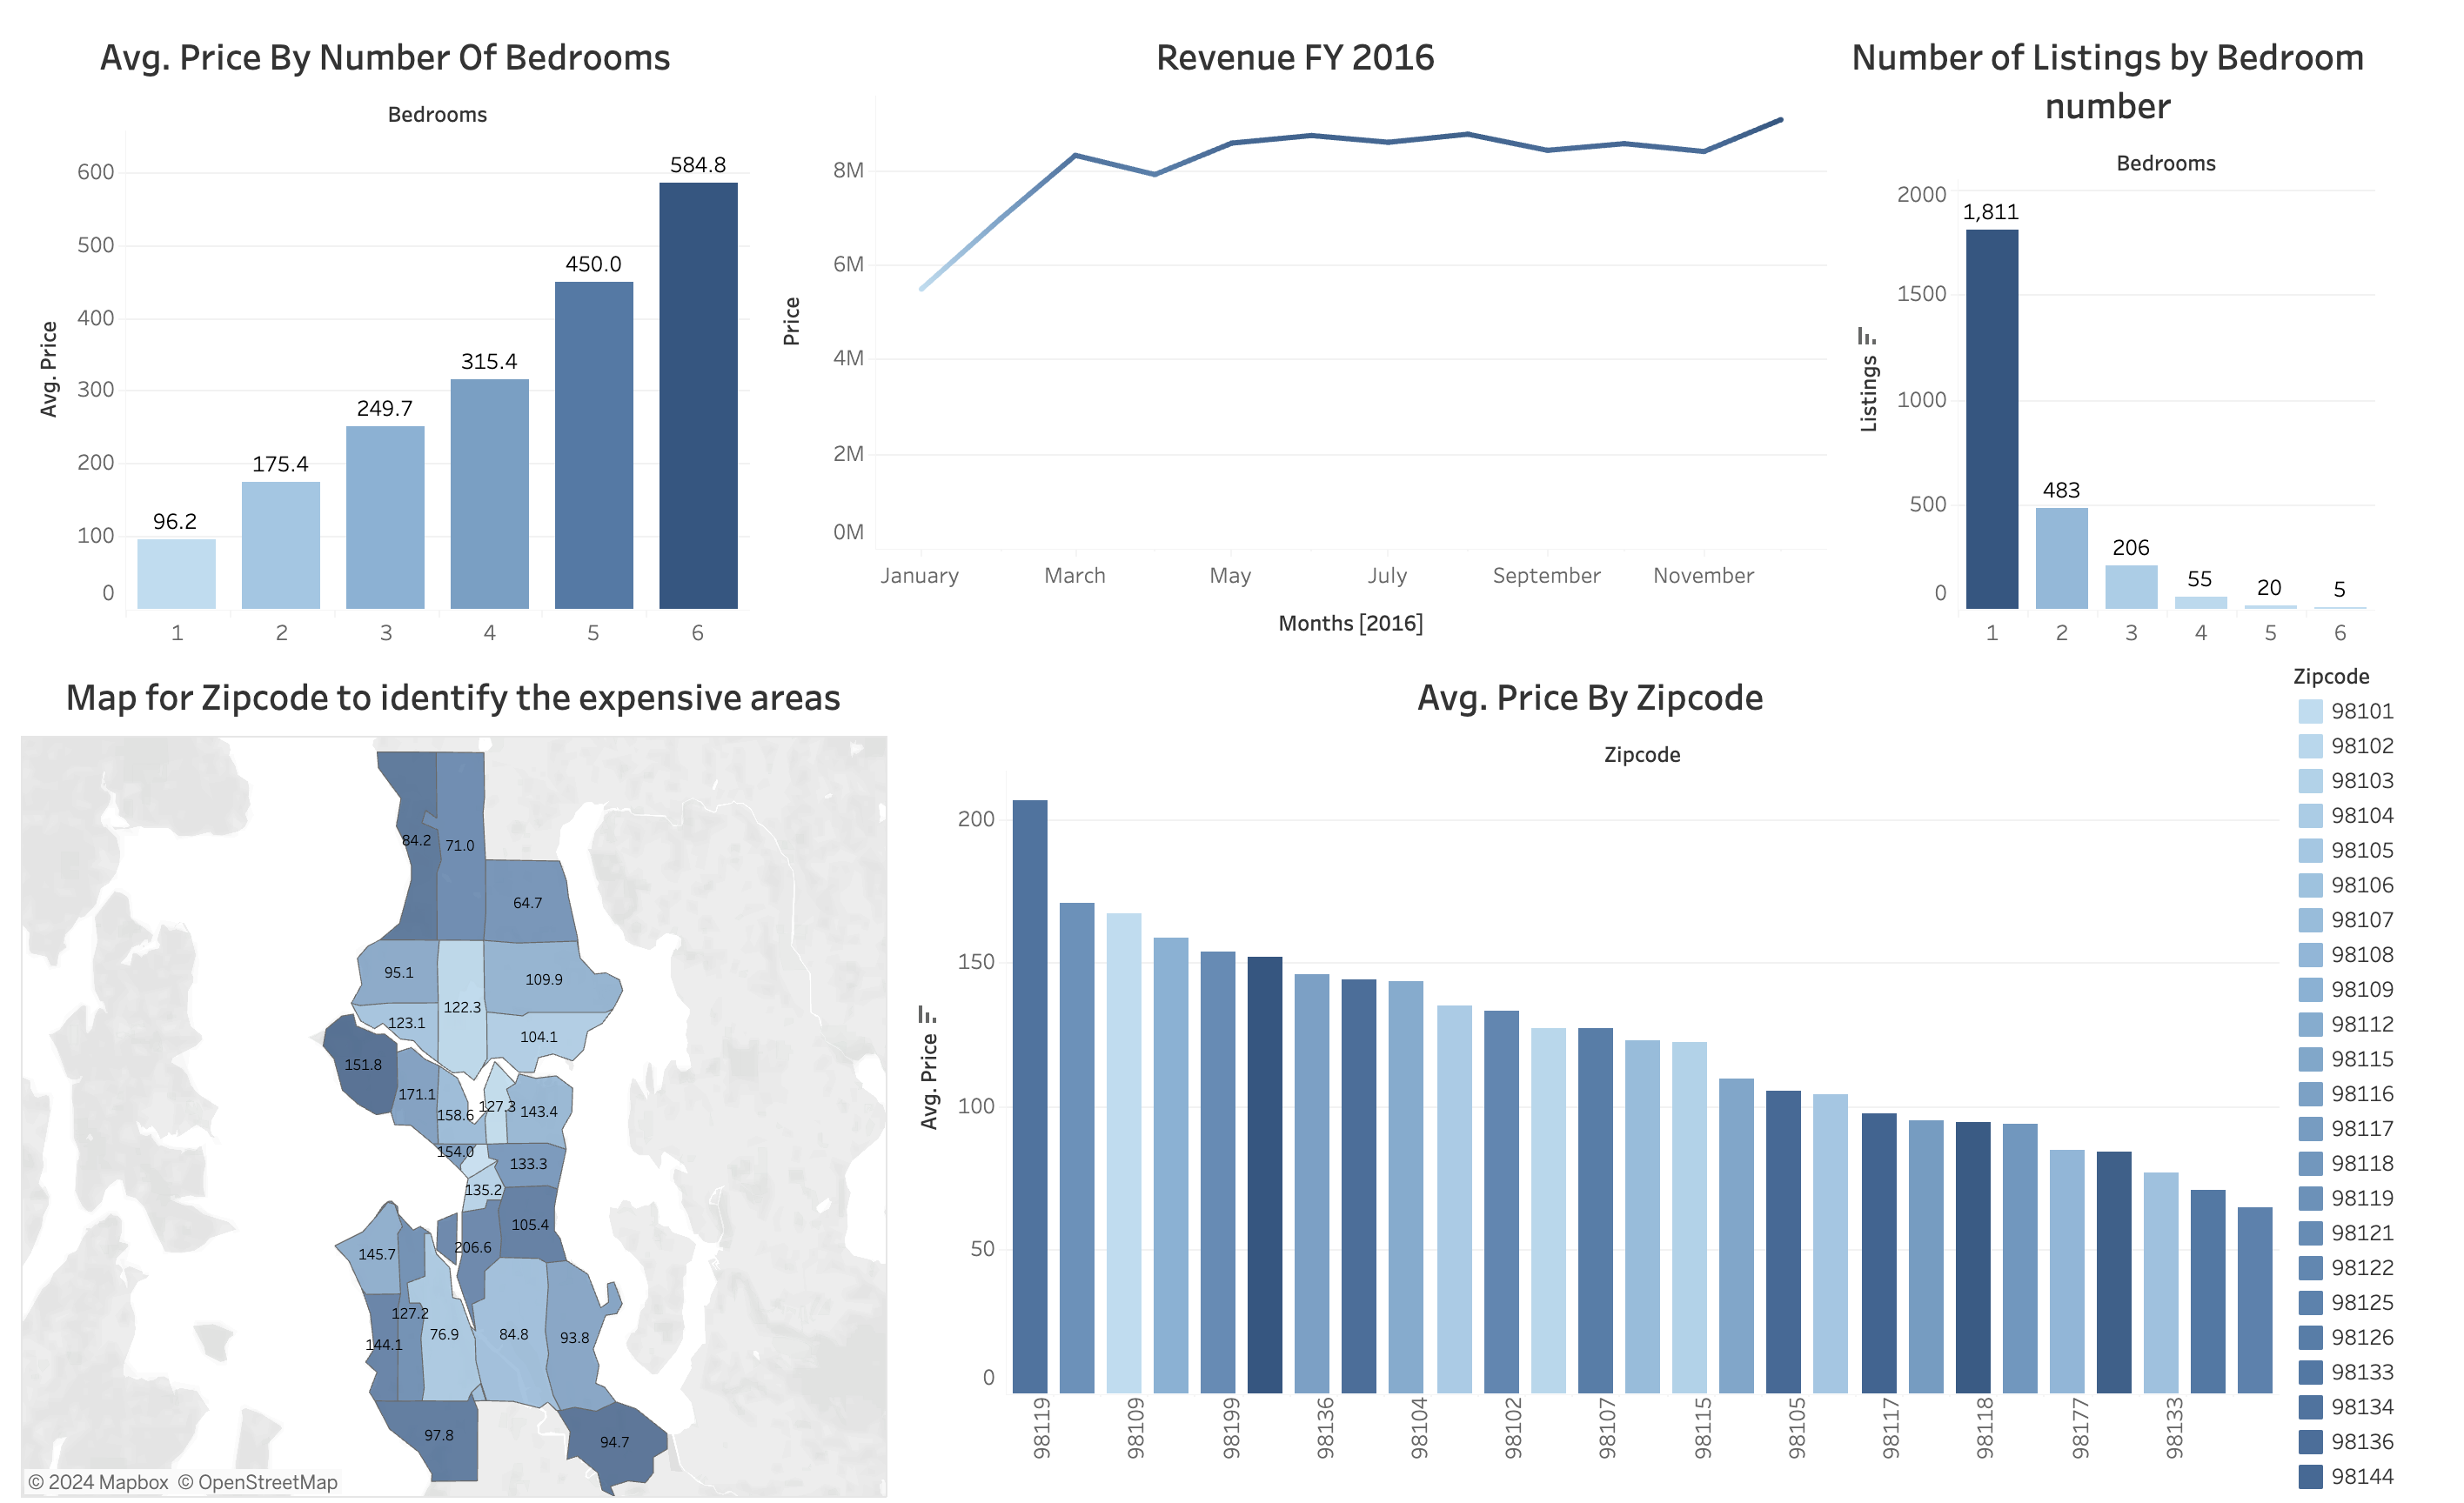

This screenshot's page, from the dashboard's own definition file:
{"tool":"tableau","page":{"name":"Airbnb_Data_Dashboard","canvas":[1000,1000],"units":"permille","ordinal":0},"visuals":[{"type":"worksheet","title":"NumberOfBedrooms","mark":"Automatic","rows":["price"],"cols":["bedrooms"],"box":[10.1,16.5,294,415.6]},{"type":"worksheet","title":"Revenue","mark":"Automatic","rows":["price (Calendar)"],"cols":["date"],"box":[304.1,16.5,425.7,415.6]},{"type":"worksheet","title":"NumberOfListingPerBedrooms","mark":"Automatic","rows":["id"],"cols":["bedrooms"],"box":[729.9,16.5,260,415.6]},{"type":"worksheet","title":"MapGraph","mark":"Multipolygon","box":[10.1,432.1,641.3,551.5]},{"type":"worksheet","title":"PriceByZipcode","mark":"Automatic","rows":["price"],"cols":["zipcode"],"box":[651.5,432.1,188.8,551.5]},{"type":"legend","title":"PriceByZipcode","param":"[federated.0ancflp1exaivk1f2c6l80n3nl8q].[none:zipcode:ok]","box":[840.3,432.1,149.6,551.5]}]}

Visuals, with their boxes on the dashboard's canvas, which has no fixed pixel size, in thousandths of its width and height (x1, y1, x2, y2). These are canvas units, not pixel positions in the 2464x1503 screenshot, which may show the page scaled, cropped or inside an application window:
"NumberOfBedrooms" worksheet: <bbox>10, 16, 304, 432</bbox>
"Revenue" worksheet: <bbox>304, 16, 730, 432</bbox>
"NumberOfListingPerBedrooms" worksheet: <bbox>730, 16, 990, 432</bbox>
"MapGraph" worksheet (Multipolygon marks): <bbox>10, 432, 651, 984</bbox>
"PriceByZipcode" worksheet: <bbox>652, 432, 840, 984</bbox>
"PriceByZipcode" legend: <bbox>840, 432, 990, 984</bbox>
